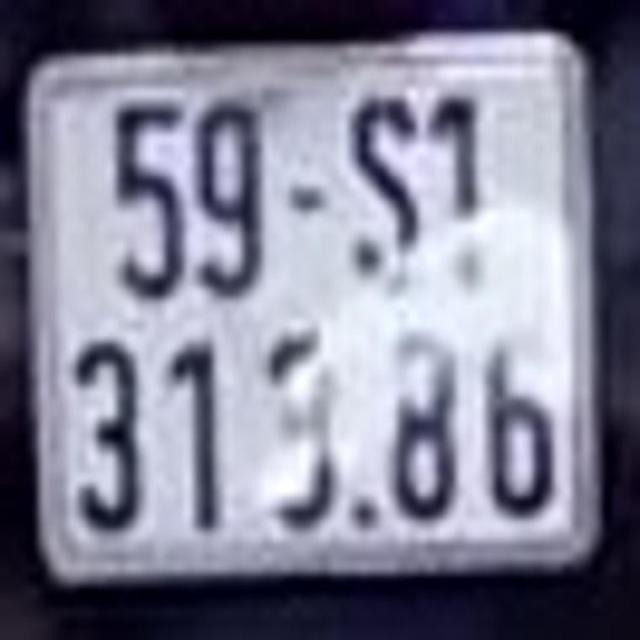1: (167, 335, 228, 532), (432, 92, 485, 292)
3: (70, 334, 144, 534)
5: (111, 95, 188, 300)
6: (487, 338, 556, 518)
8: (266, 328, 337, 529), (390, 326, 457, 522)
9: (193, 95, 267, 299)
S: (346, 91, 425, 285)
